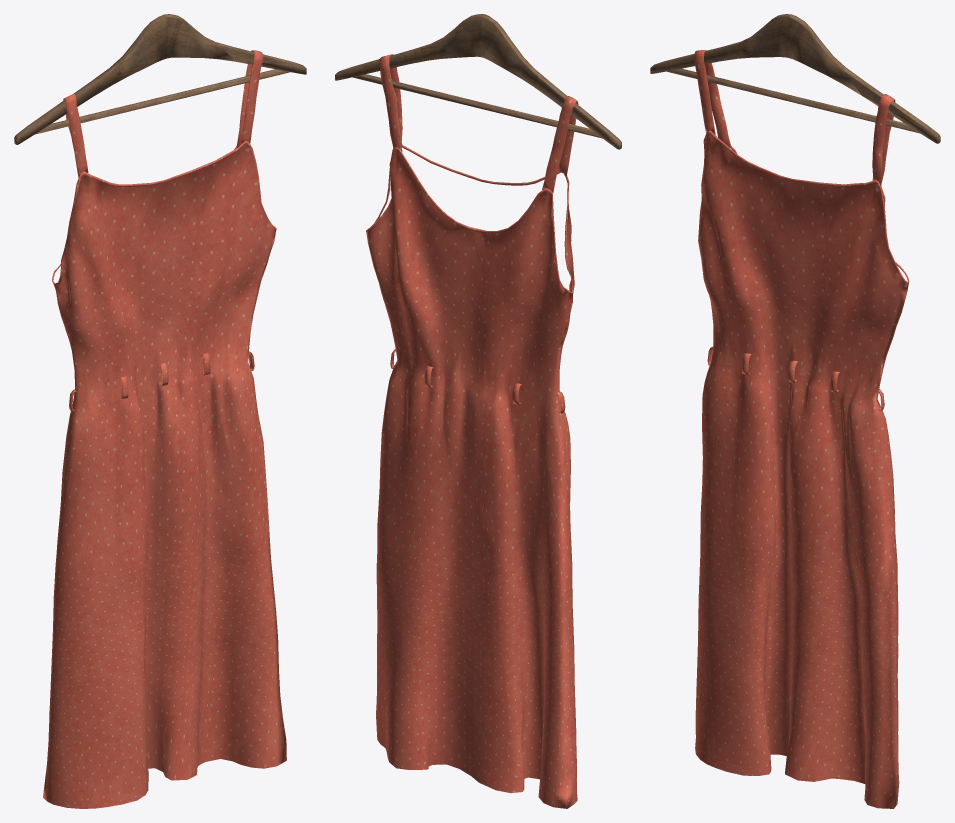
File: hvcoat_Clothes_21.glb
3 views of the same model, side by side, from view 1: azimuth 30°, elevation 25°; view 2: azimuth 150°, elevation 25°; view 3: azimuth 330°, elevation 25° (orthographic). The views are drawn at different scales.
Parts seen in each view (by area): view 1: BP_Clothes_21; view 2: BP_Clothes_21; view 3: BP_Clothes_21.
Boxes of the visible parts, bbox=[...] form: BP_Clothes_21: bbox=[14, 14, 306, 808]; BP_Clothes_21: bbox=[335, 14, 621, 808]; BP_Clothes_21: bbox=[650, 14, 940, 808].
Size of the model in its own units: 0.4373 by 1.11 by 0.0975.
2 materials, 2 textured.
